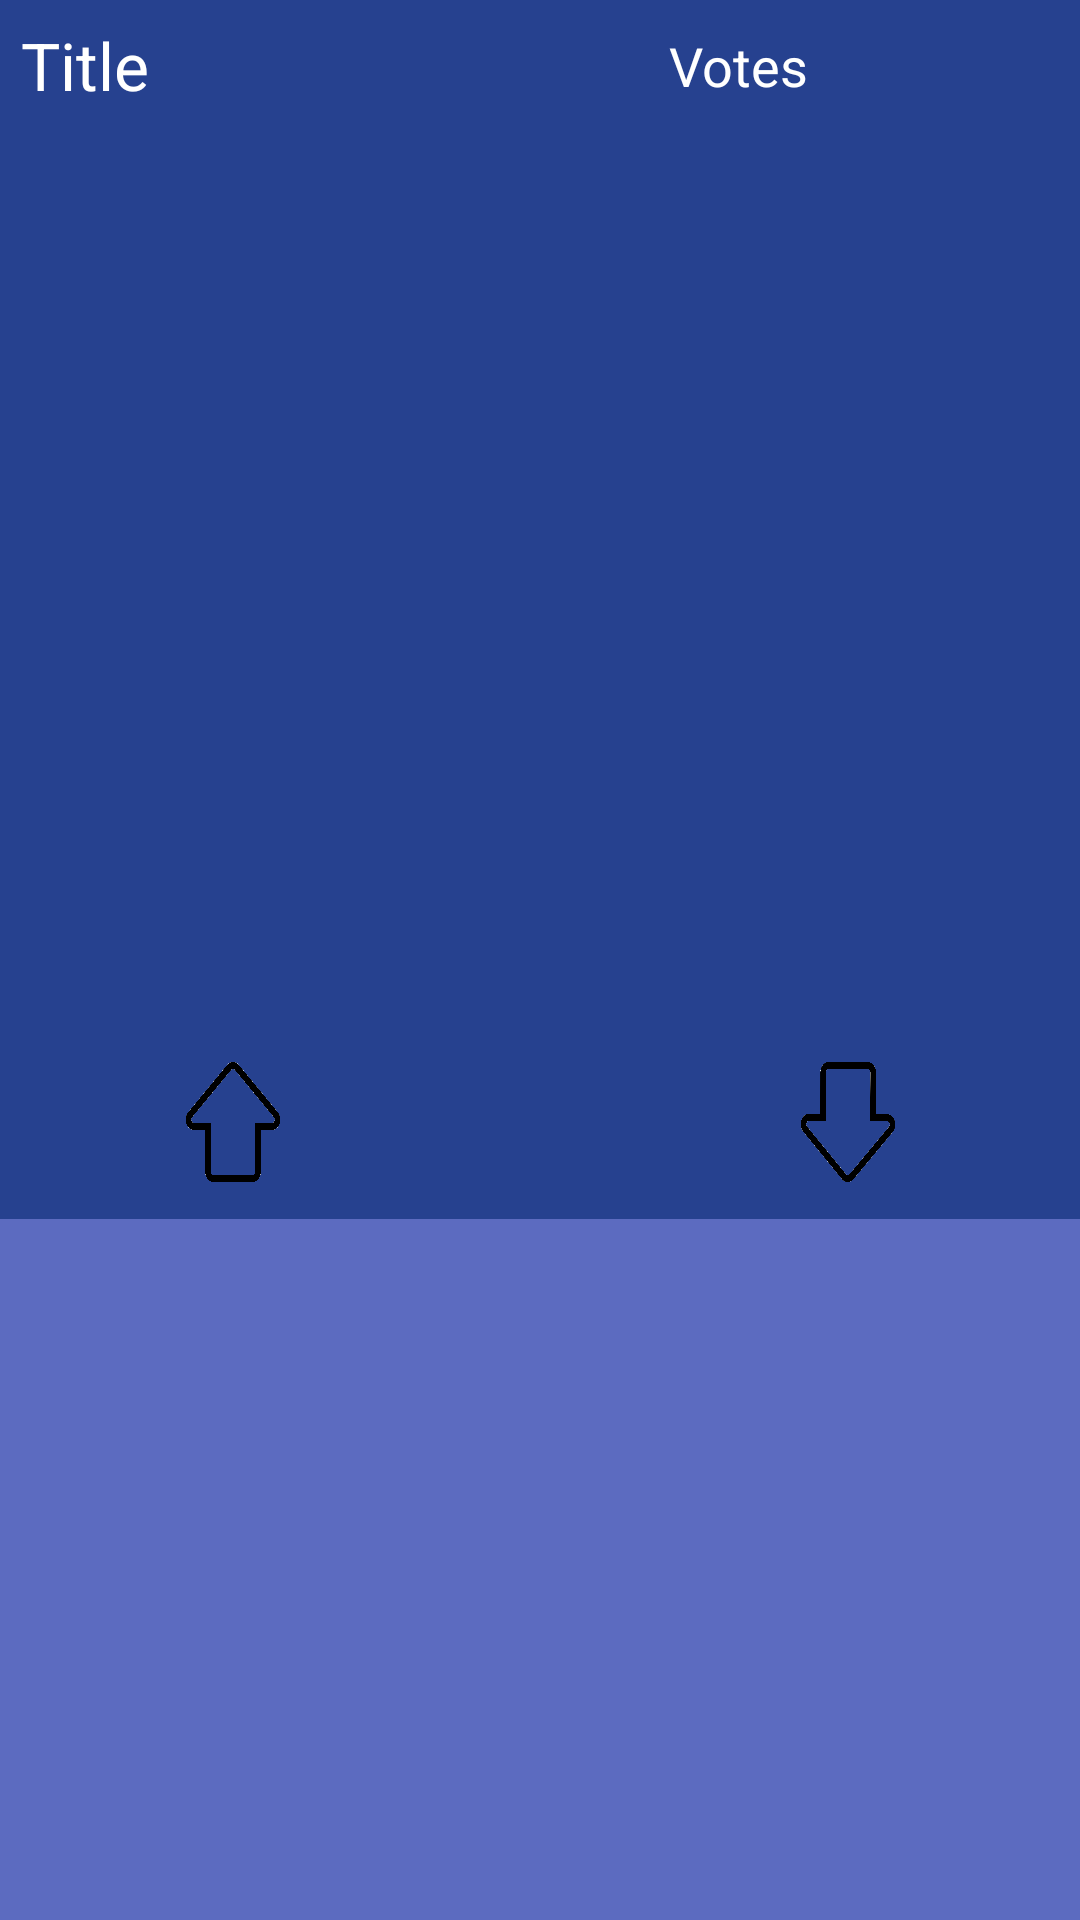

Icon bounding boxes for this 1080w x 1920h phone screenshot, format detection(x1, y1, x2, y2):
empty down: detection(801, 1062, 895, 1182)
empty up: detection(186, 1062, 280, 1182)
